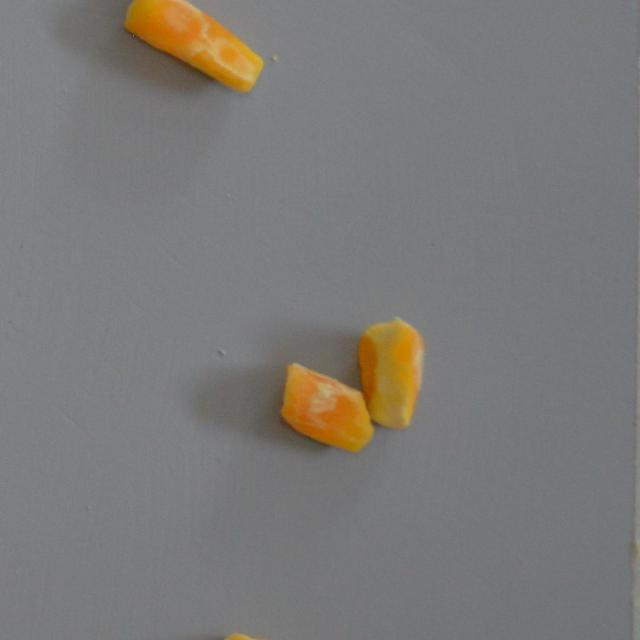dañado: (116, 0, 266, 96), (274, 354, 378, 456), (353, 308, 426, 432), (214, 626, 303, 640)
